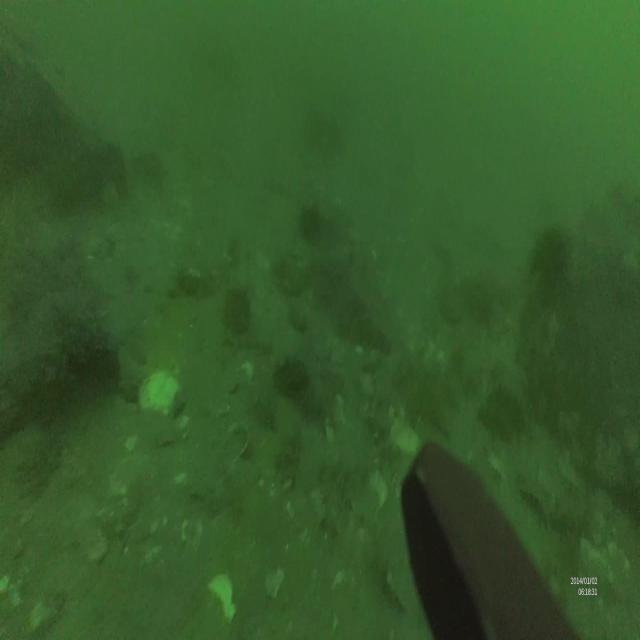echinus: (535, 226, 567, 279), (275, 357, 312, 398), (223, 290, 254, 338), (299, 205, 323, 242)
scallop: (139, 366, 185, 421)
